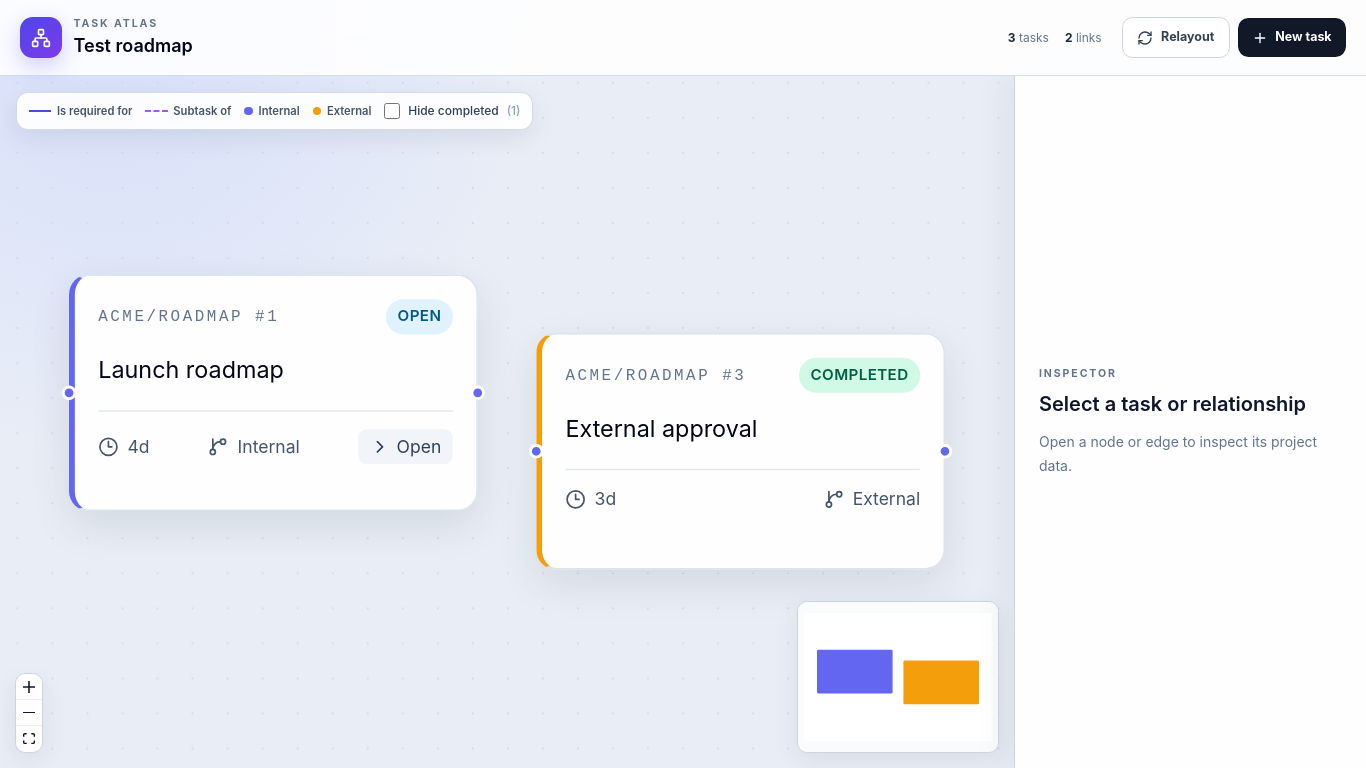
App › confirms task deletion and warns about cascading relationships
Click the button named "Select External approval" at (743, 427), box [565,410,920,445]
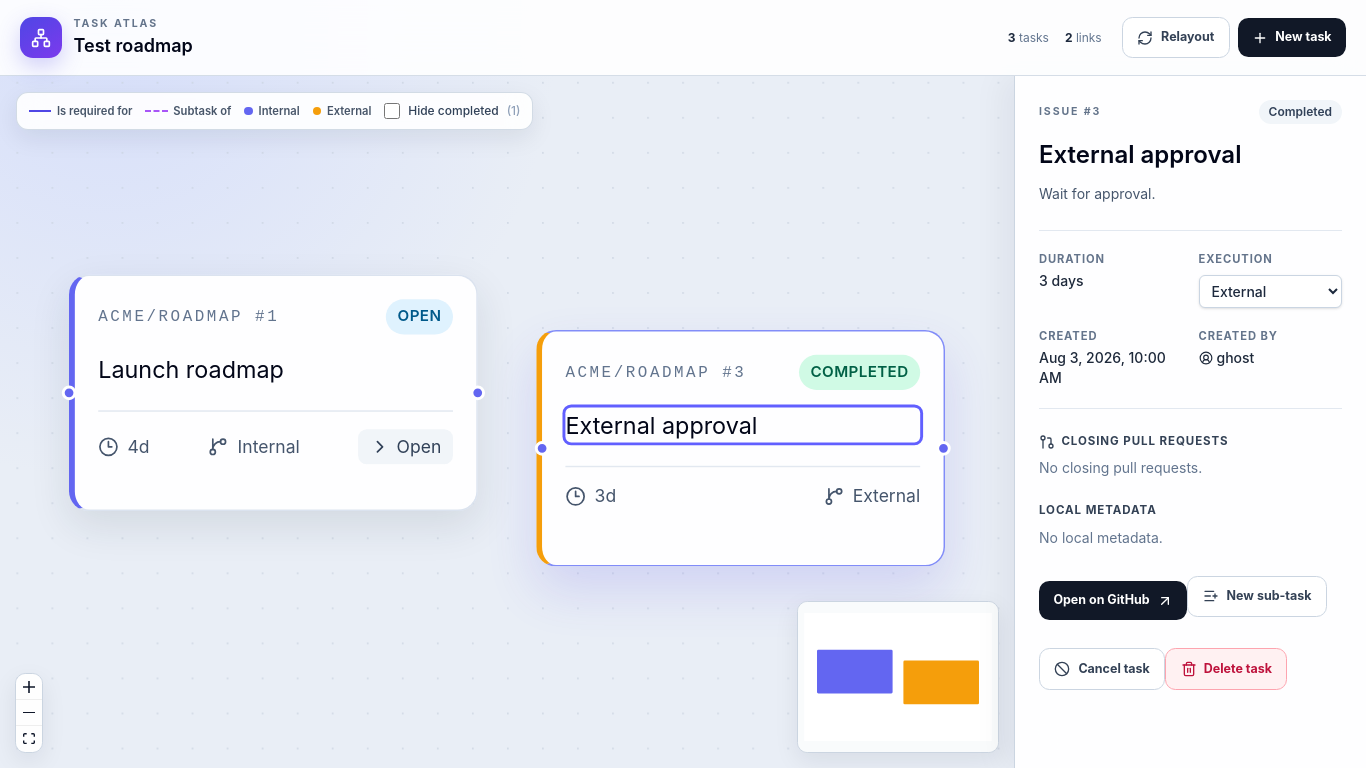
Click the button "Delete task" at (1226, 669), box [1165,648,1287,690]
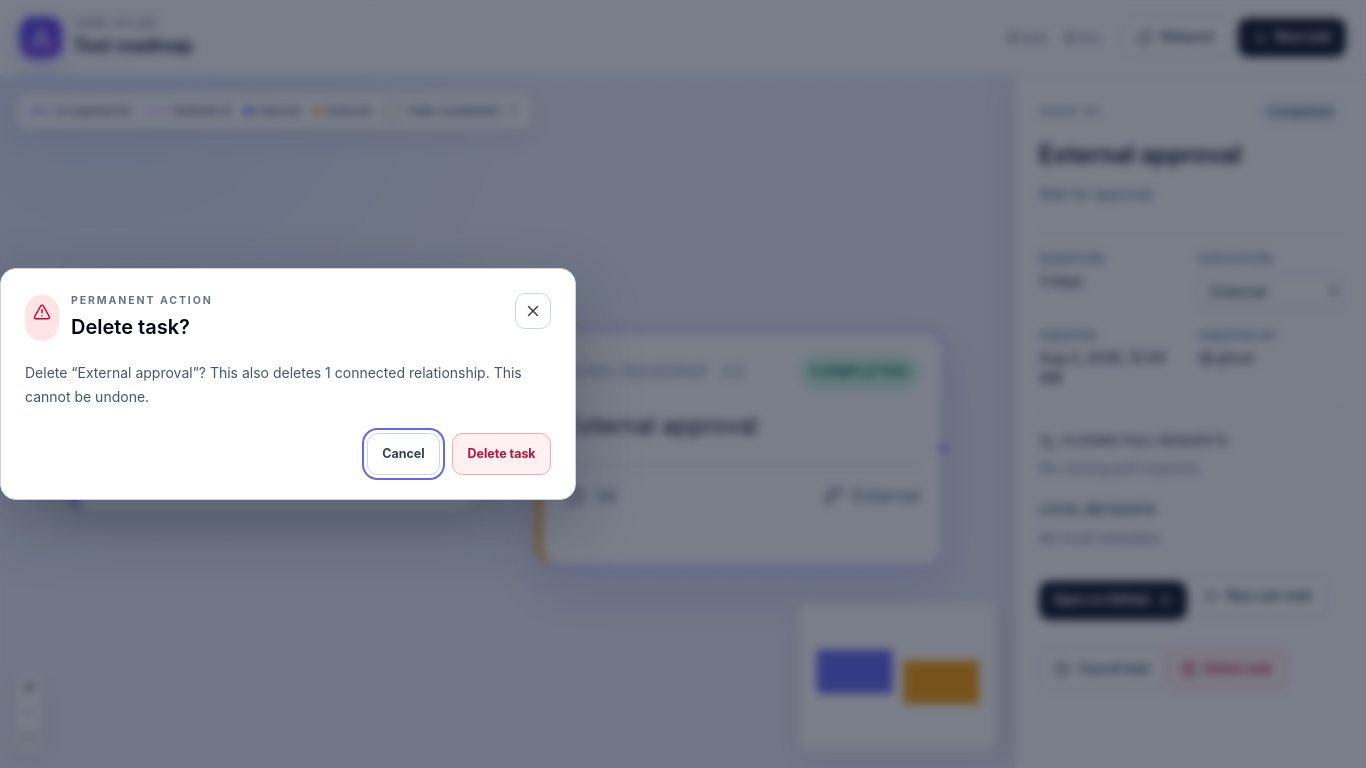
Expected: the dialog shows "1 connected relationship", [25,364,522,405]
Click the button "Delete task" at (502, 454), box [452,433,551,475]
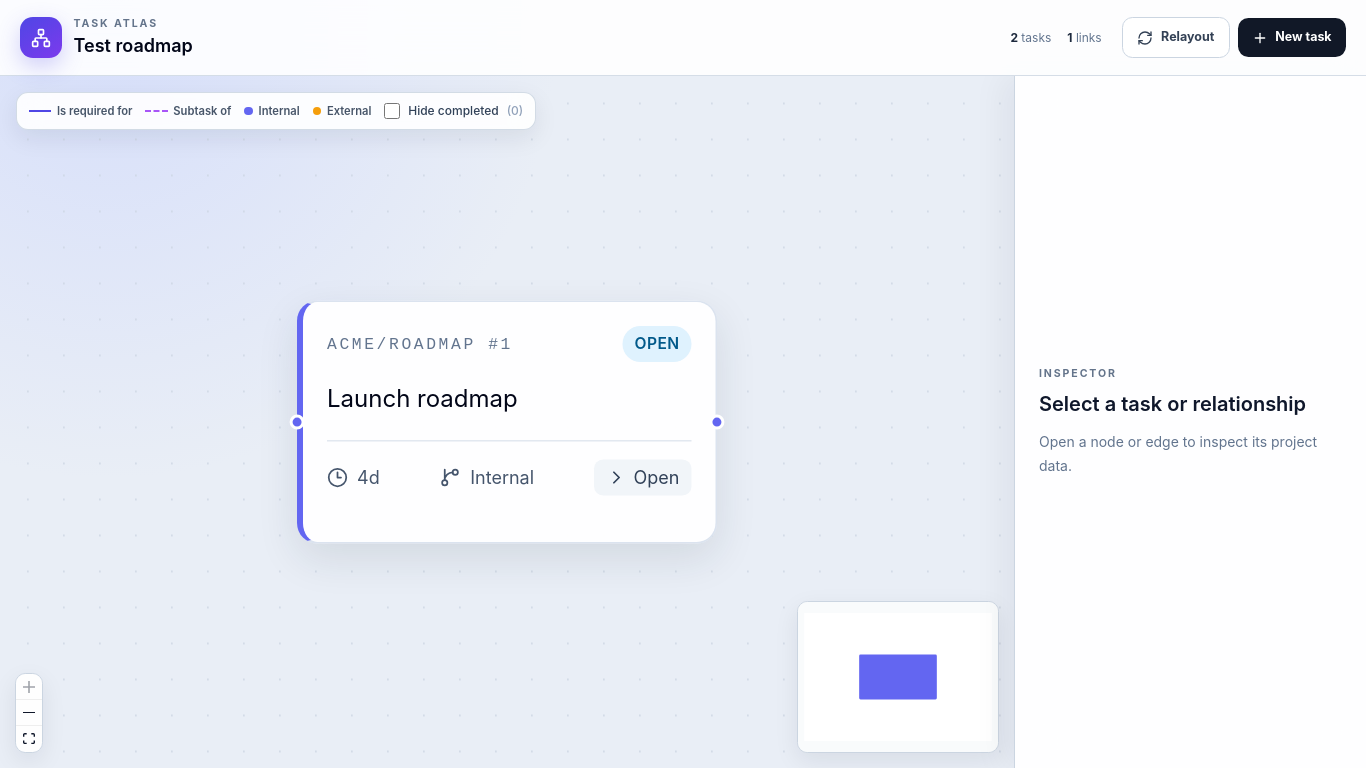
Expected: the button "External approval" is gone
